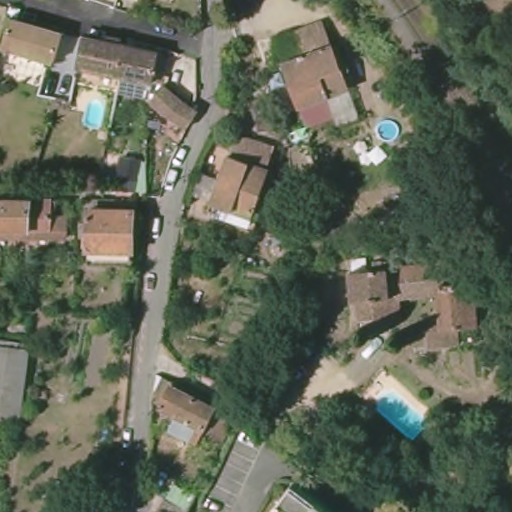pool: (371, 388, 430, 443), (81, 95, 109, 129), (376, 118, 401, 143)
